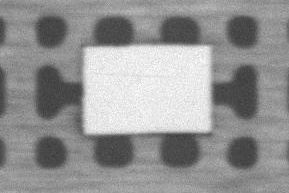DIE_CRACK: (132, 49, 252, 51)
